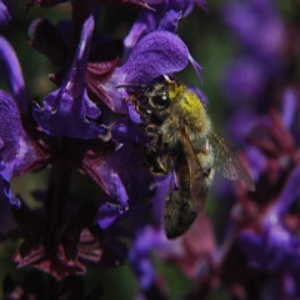bee: (140, 76, 216, 241)
